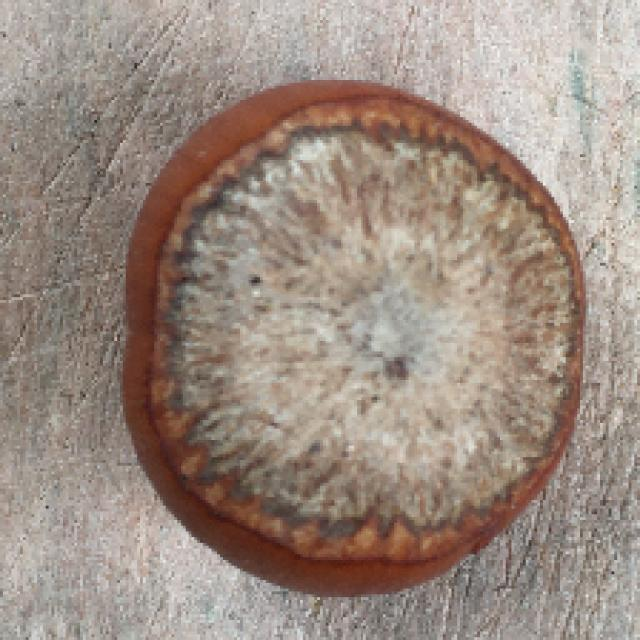qualityHazelnut: (125, 74, 588, 596)
